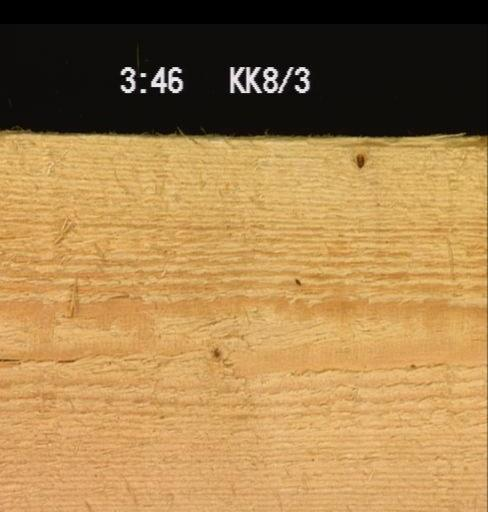dry_knot: (350, 151, 369, 170)
small_knot: (204, 345, 223, 361)
split: (0, 354, 77, 364)
wave: (181, 130, 486, 144)
